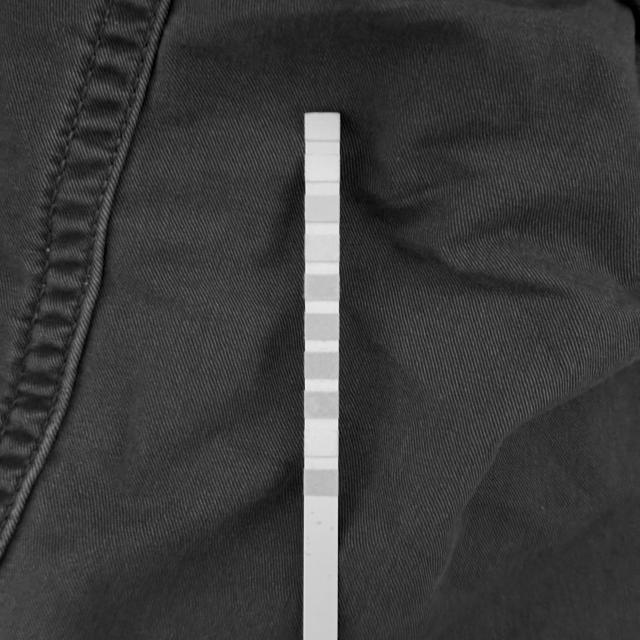Bilirubin: (305, 431, 338, 456)
Blood: (305, 315, 338, 339)
Glucose: (304, 470, 338, 495)
Ketone: (306, 393, 337, 417)
Leukocytes: (306, 116, 338, 140)
Nitrite: (307, 158, 338, 180)
Protein: (306, 236, 339, 260)
SpGravity: (306, 354, 338, 378)
Urobilinogen: (306, 197, 338, 220)
background: (0, 0, 640, 640)
pH: (306, 276, 338, 300)
strip: (302, 112, 340, 640)
